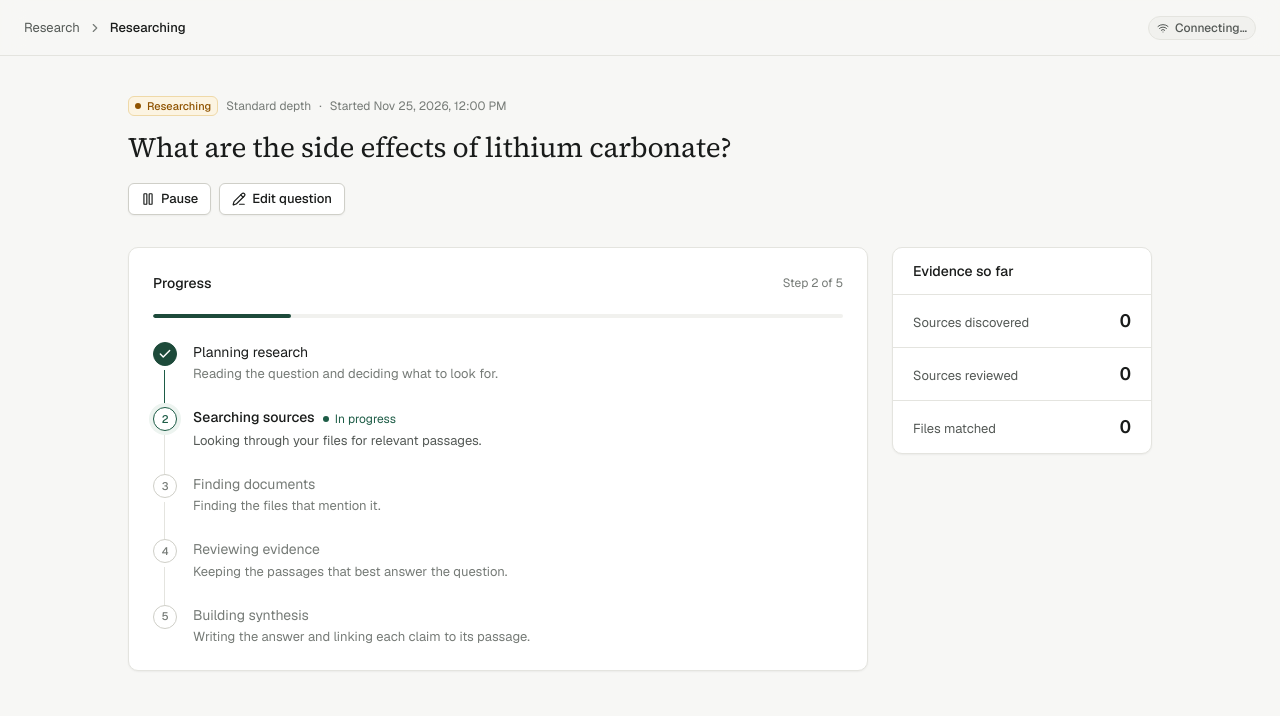
Test case: Research pause and edit question controls › allows pausing and editing an in-progress run from ResearchProgressPage
The width and height of the screenshot is (1280, 716).
Check: the button "Pause" is shown, box left=128, top=182, right=211, bottom=214
Click the button "Edit question" at (282, 198), box left=219, top=182, right=345, bottom=214
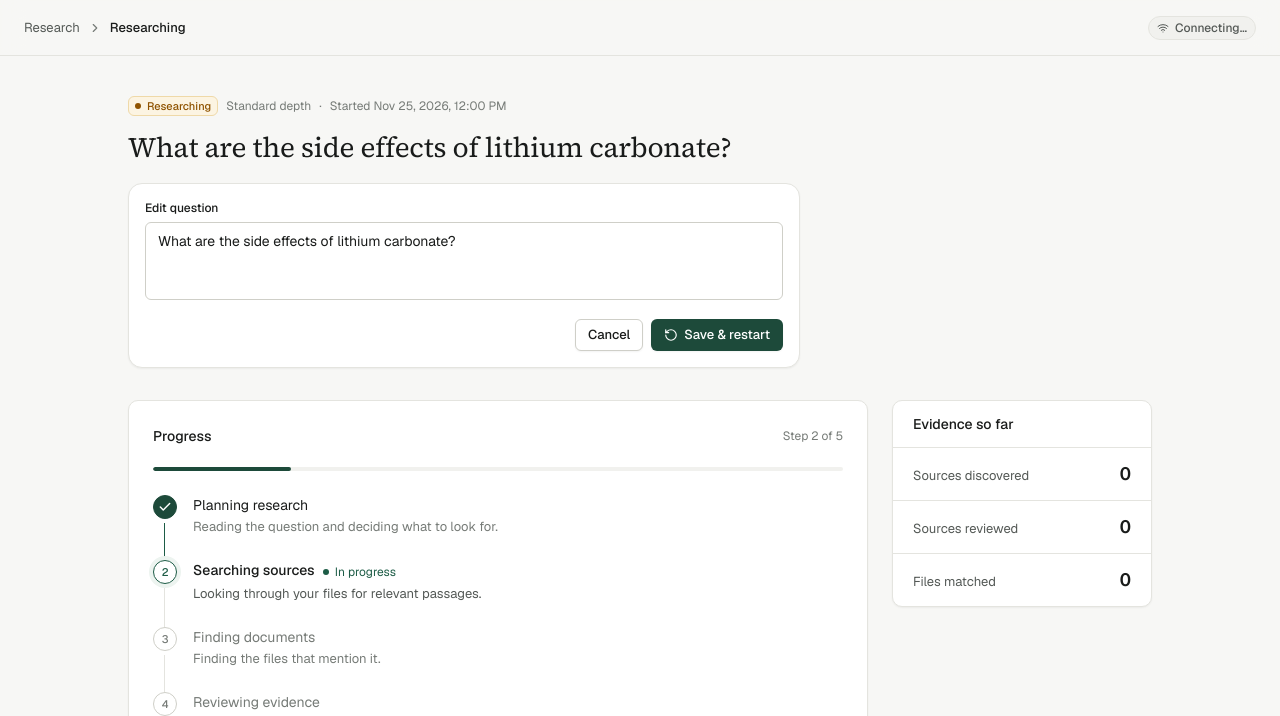
Replace the text in the text box labelled "Edit question" with "Compare lithium and valproate monitoring requirements" at (464, 260), box left=145, top=222, right=783, bottom=300
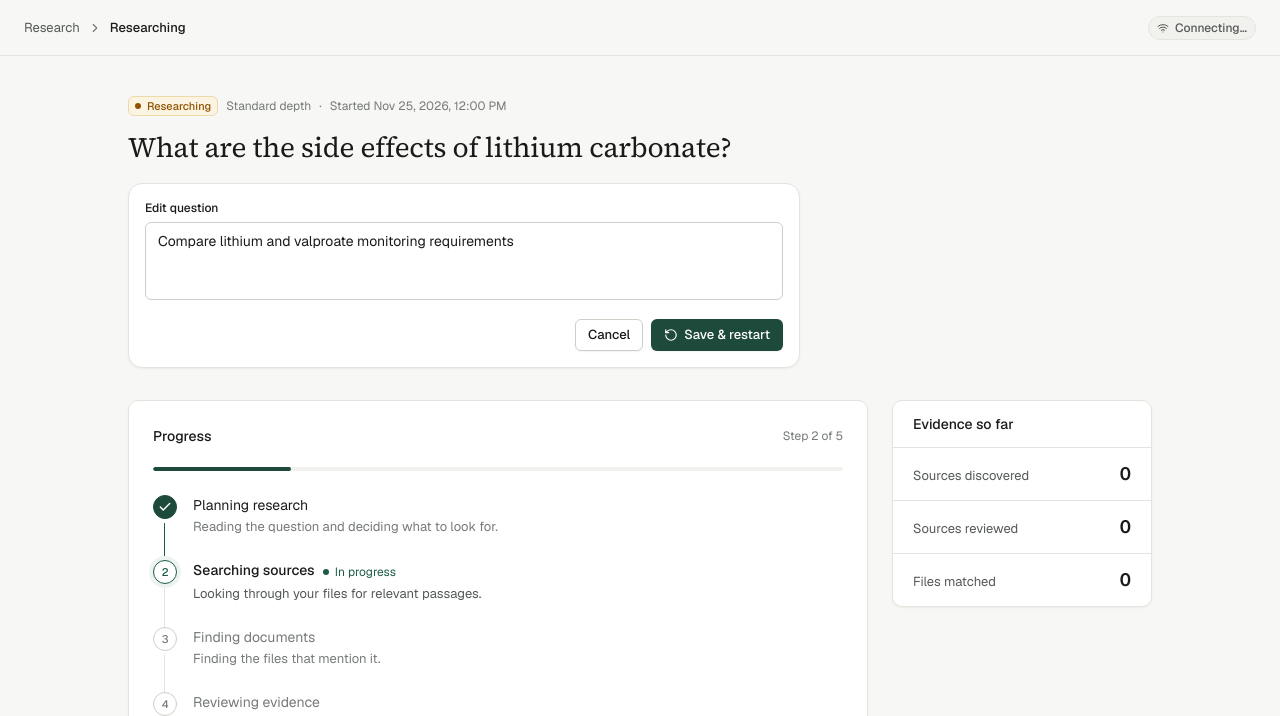
Click the button "Save & restart" at (717, 334), box left=651, top=318, right=783, bottom=350
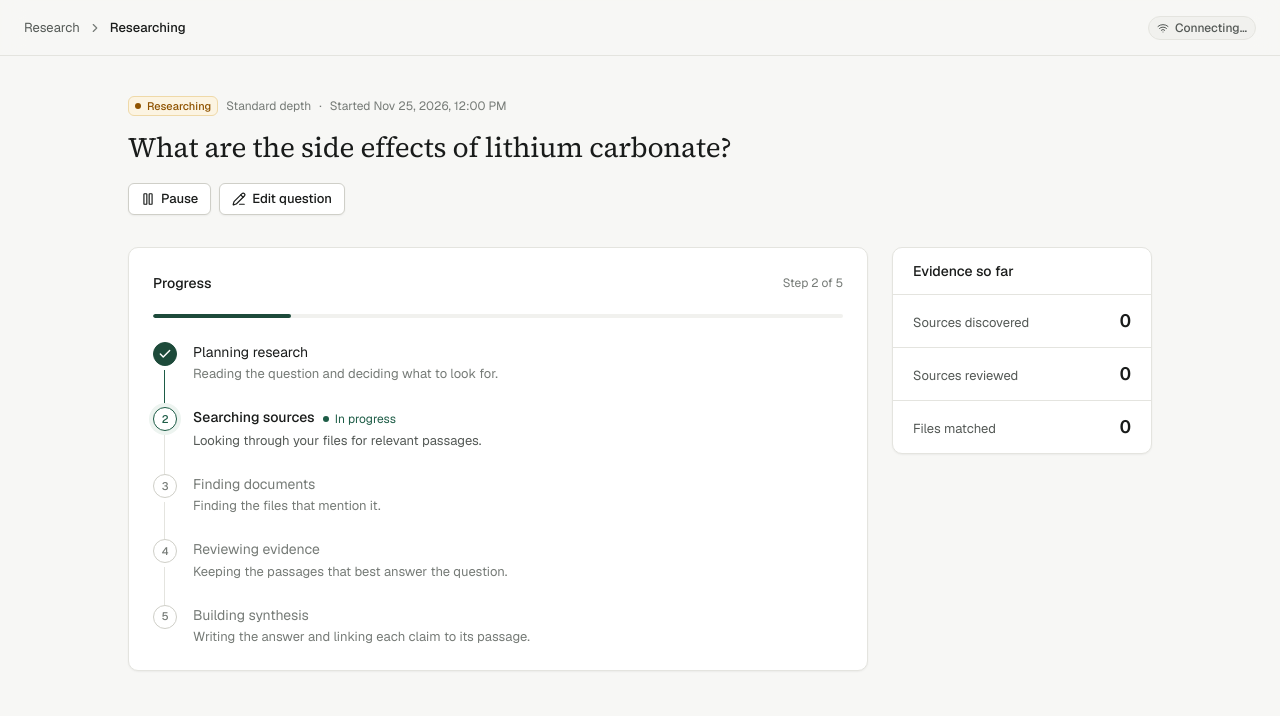
Click the button "Pause" at (170, 198), box left=128, top=182, right=211, bottom=214
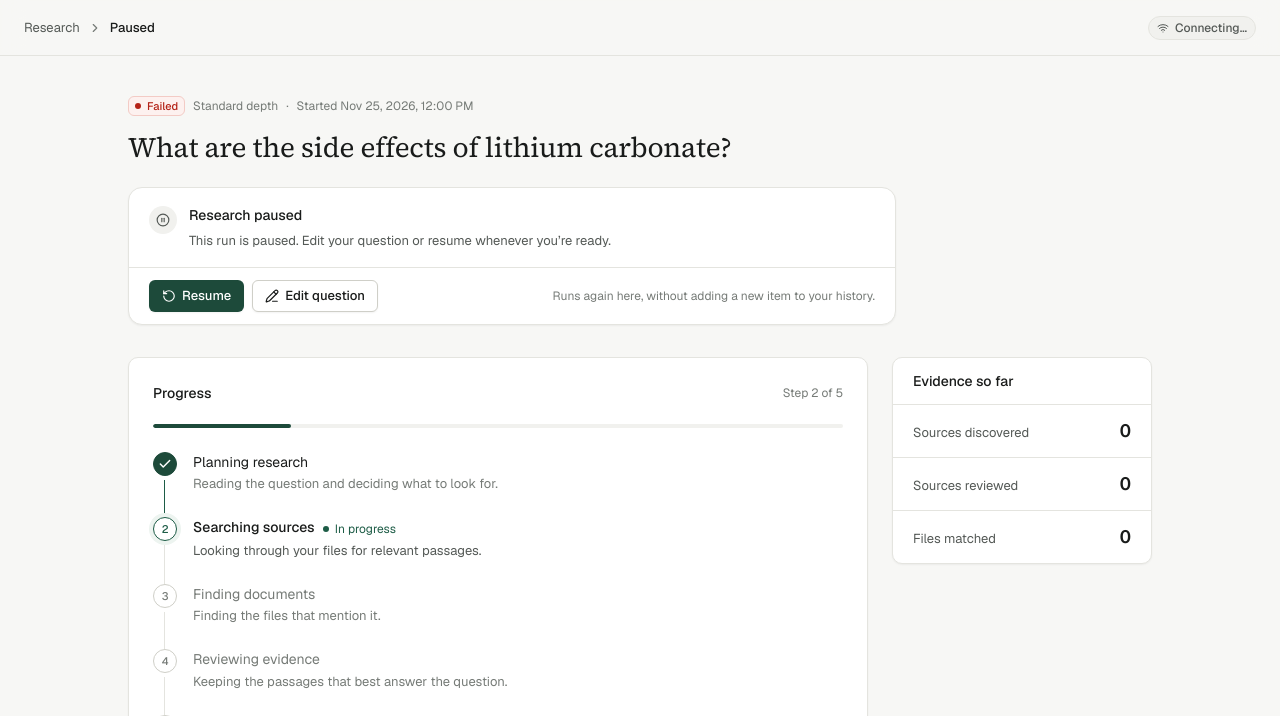
Check: the heading "Research paused" is shown, box left=189, top=206, right=302, bottom=224
